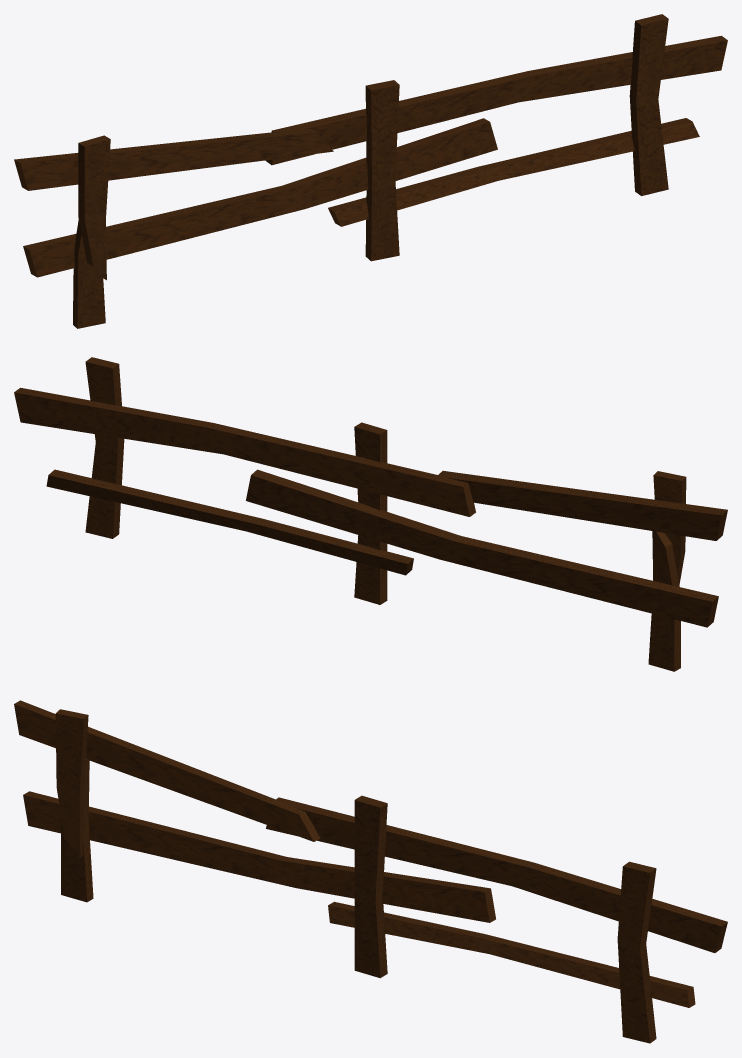
The model's file is barriere_00.FBX.
3 views of the same model, one above another, from view 1: azimuth 30°, elevation 25°; view 2: azimuth 150°, elevation 25°; view 3: azimuth 330°, elevation 25° (orthographic).
Visible parts, largest first — view 1: barriere; view 2: barriere; view 3: barriere.
Part boxes in pixels (x1=…): barriere: x1=14, y1=14, x2=727, y2=328; barriere: x1=14, y1=357, x2=727, y2=671; barriere: x1=14, y1=700, x2=727, y2=1043.
Size of the model in its own units: 4.31 by 1.11 by 0.1977.
